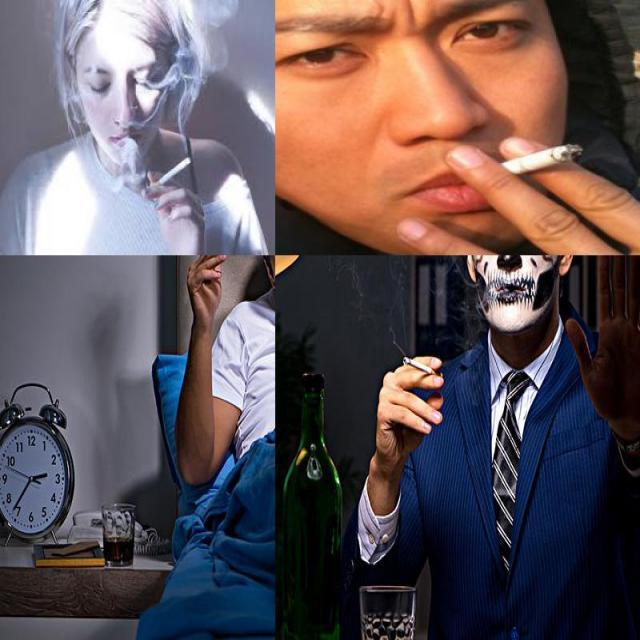smoke: (486, 140, 586, 176), (148, 158, 192, 192), (402, 356, 444, 381)
